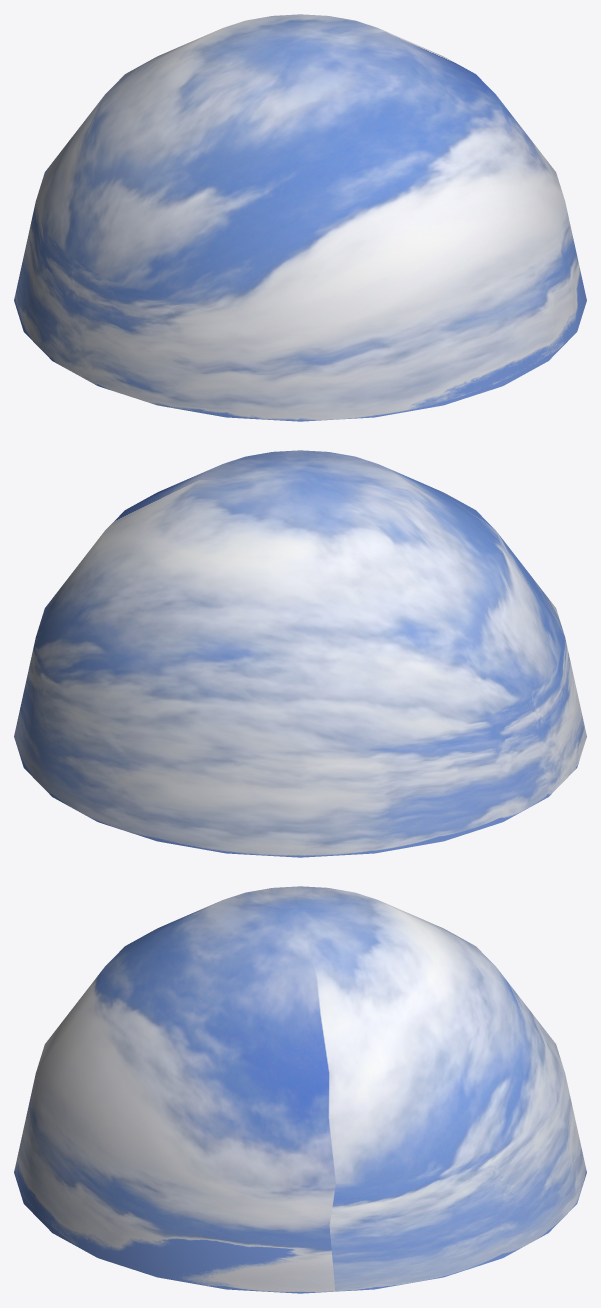
File: skydome.obj
The picture shows the model from 3 angles, top to bottom: view 1: azimuth 30°, elevation 25°; view 2: azimuth 150°, elevation 25°; view 3: azimuth 270°, elevation 25°; orthographic projection.
Visible parts, largest first — view 1: Sphere; view 2: Sphere; view 3: Sphere.
Boxes of the visible parts, x1,y1,x2,y2 form: Sphere: (14,14,586,421); Sphere: (14,450,586,857); Sphere: (14,886,586,1293).
Bounding box in the file's own units: 22.26 × 11.13 × 22.26.
